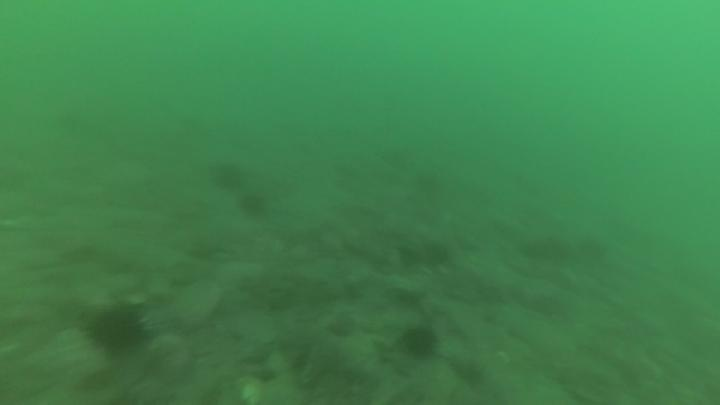echinus: (86, 301, 150, 357), (518, 232, 572, 267), (399, 323, 440, 361), (207, 158, 247, 193), (415, 238, 452, 271), (575, 234, 609, 268), (236, 190, 270, 221)
